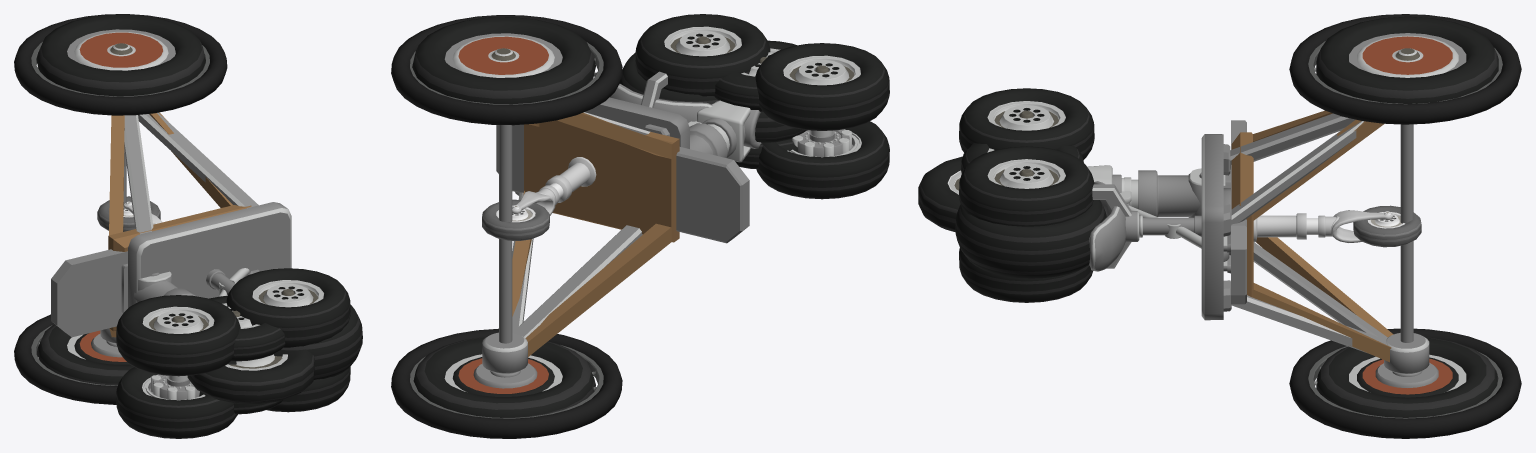
File: Parts_Wheels.glb
3 renders of one model, left to right at view 1: azimuth 30°, elevation 25°; view 2: azimuth 150°, elevation 25°; view 3: azimuth 270°, elevation 25°, orthographic. The views are drawn at different scales.
Parts seen in each view (by area): view 1: OldSteelWheel__0, BigRetractableGear__5, OldSteelWheel__1, BikeWheel__1, BigRetractableGear__6, BigRetractableGear__3, SmallRetractableGear__2, BikeWheel__0, OldSteelWheel__2, BigOldWheel__2, Wheel03__6, SmallRetractableGear__3 (+3 smaller); view 2: OldSteelWheel__1, BikeWheel__0, BigRetractableGear__5, BikeWheel__1, OldSteelWheel__0, BigRetractableGear__6, BigRetractableGear__3, OldSteelWheel__2, Wheel03__6, BigOldWheel__1, Wheel01__4, TinyRetractableGear__1 (+7 smaller); view 3: OldSteelWheel__0, OldSteelWheel__1, BikeWheel__1, BigRetractableGear__6, BikeWheel__0, BigOldWheel__2, BigRetractableGear__5, BigOldWheel__1, OldSteelWheel__2, SmallRetractableGear__3, SmallRetractableGear__2, BigRetractableGear__3 (+4 smaller).
Boxes of the visible parts, x1,y1,x2,y2 form: OldSteelWheel__0: (91,112,291,357); BigRetractableGear__5: (116,295,240,438); OldSteelWheel__1: (36,14,205,385); BikeWheel__1: (14,14,227,404); BigRetractableGear__6: (226,268,350,412); BigRetractableGear__3: (51,249,171,337); SmallRetractableGear__2: (187,349,314,404); BikeWheel__0: (108,112,251,337); OldSteelWheel__2: (79,32,162,361); BigOldWheel__2: (274,304,362,379); Wheel03__6: (183,296,285,414); SmallRetractableGear__3: (134,281,196,302); OldSteelWheel__1: (412,17,595,417); BikeWheel__0: (512,112,679,356); BigRetractableGear__5: (755,43,889,199); BikeWheel__1: (391,15,622,438); OldSteelWheel__0: (473,97,689,388); BigRetractableGear__6: (635,14,770,96); BigRetractableGear__3: (496,124,749,243); OldSteelWheel__2: (458,36,548,393); Wheel03__6: (714,40,820,169); BigOldWheel__1: (610,46,712,122); Wheel01__4: (482,199,549,240); TinyRetractableGear__1: (697,100,750,162); OldSteelWheel__0: (1201,113,1438,387); OldSteelWheel__1: (1316,16,1498,417); BikeWheel__1: (1289,14,1521,438); BigRetractableGear__6: (959,146,1094,302); BikeWheel__0: (1231,110,1393,362); BigOldWheel__2: (955,200,1106,278); BigRetractableGear__5: (959,88,1094,159); BigOldWheel__1: (1089,181,1194,271); OldSteelWheel__2: (1362,36,1452,394); SmallRetractableGear__3: (1138,170,1200,216); SmallRetractableGear__2: (918,156,962,232); BigRetractableGear__3: (1188,120,1246,304).
Size of the model in its own units: 1.73 by 2.05 by 3.16.
52 materials, 42 textured.
